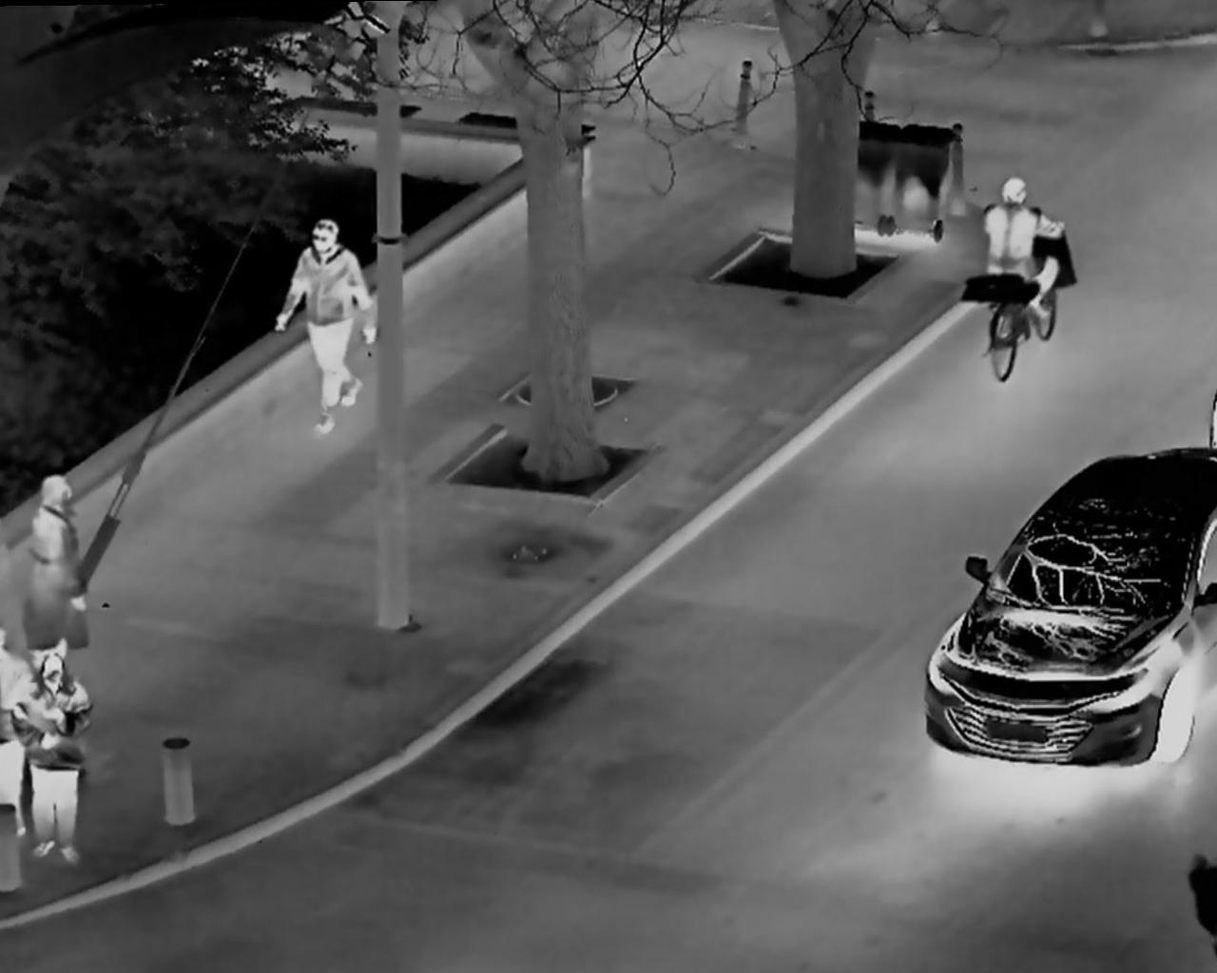person: (284, 202, 381, 449), (974, 154, 1075, 380), (19, 468, 121, 658), (19, 658, 104, 878)
